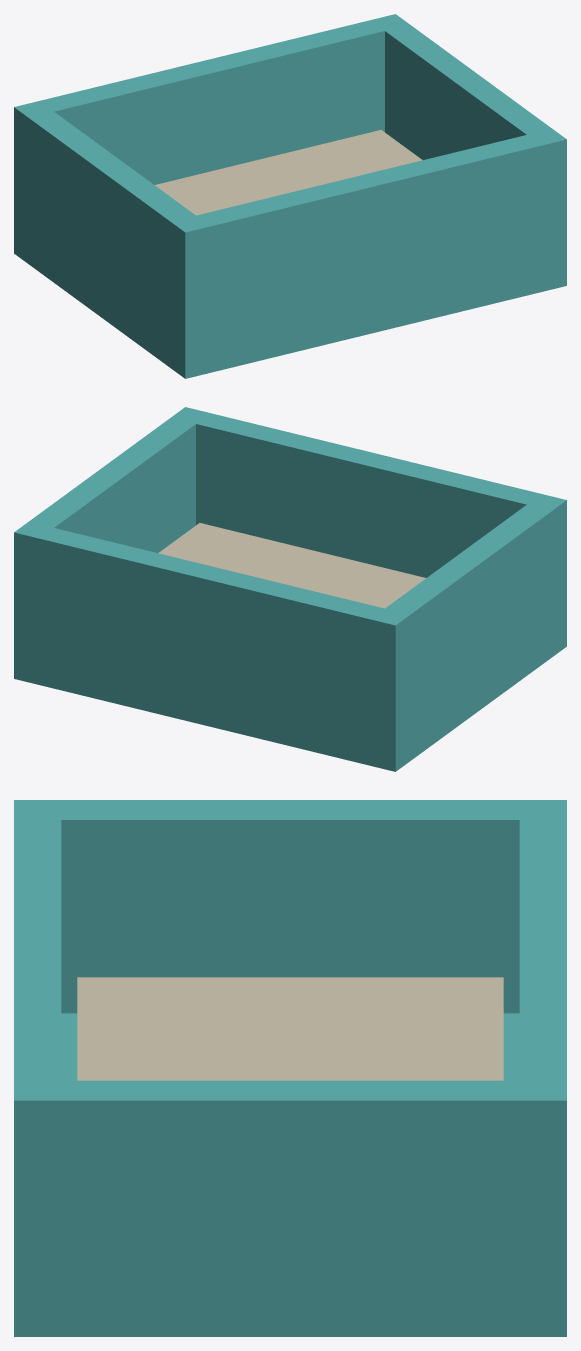
File: pets_caixa_areia.glb
3 views of the same model, one above another, from view 1: azimuth 30°, elevation 25°; view 2: azimuth 150°, elevation 25°; view 3: azimuth 270°, elevation 25° (orthographic). The views are drawn at different scales.
Parts seen in each view (by area): view 1: PETS_CAIXA_AREIA_v01; view 2: PETS_CAIXA_AREIA_v01; view 3: PETS_CAIXA_AREIA_v01.
Part boxes in pixels (<box>): PETS_CAIXA_AREIA_v01: <box>14,14,566,378</box>; PETS_CAIXA_AREIA_v01: <box>14,407,566,771</box>; PETS_CAIXA_AREIA_v01: <box>14,800,566,1336</box>.
Bounding box in the file's own units: 0.45 × 0.165 × 0.35.
